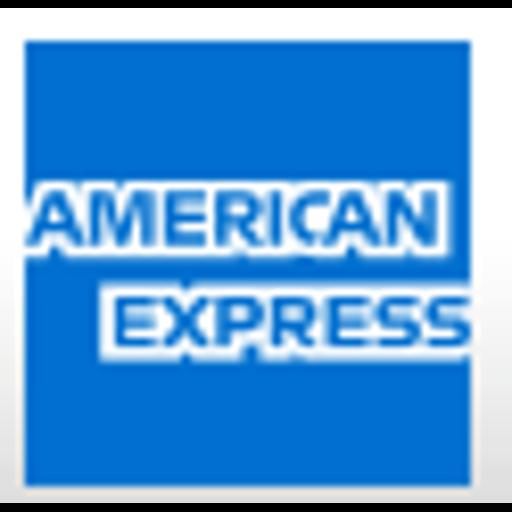American Express: (0, 8, 512, 503)
